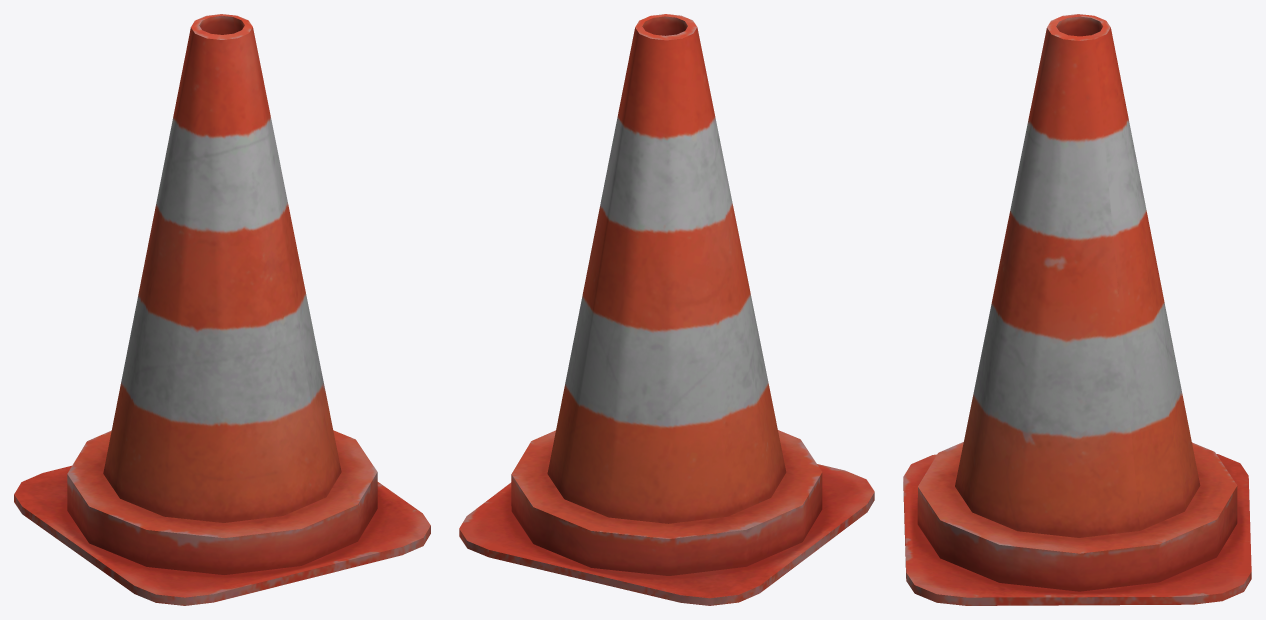
The model's file is CR_Traffic_cone1.fbx.
3 views of the same model, side by side, from view 1: azimuth 30°, elevation 25°; view 2: azimuth 150°, elevation 25°; view 3: azimuth 270°, elevation 25° (orthographic). The views are drawn at different scales.
Parts seen in each view (by area): view 1: Triffic_Cone; view 2: Triffic_Cone; view 3: Triffic_Cone.
Boxes of the visible parts, x1,y1,x2,y2 form: Triffic_Cone: [14, 14, 430, 605]; Triffic_Cone: [459, 14, 874, 605]; Triffic_Cone: [903, 14, 1251, 605].
Bounding box in the file's own units: 42.78 × 68.6 × 42.78.
Materials: 1 (1 with a texture image).
